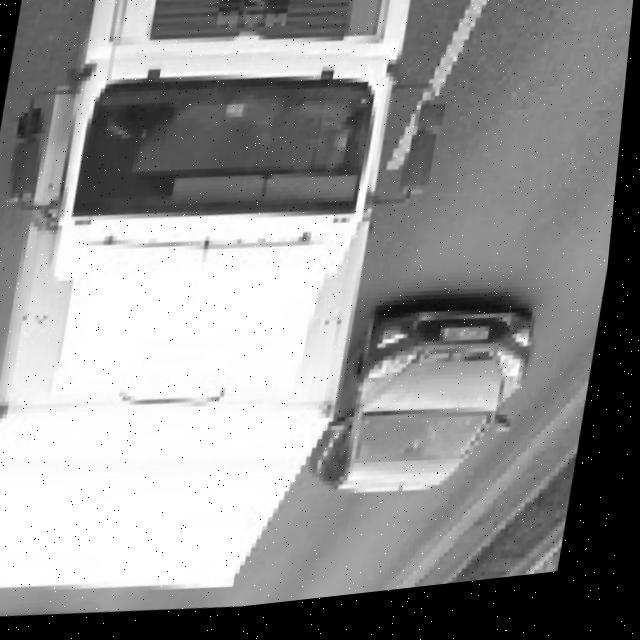truck: (7, 1, 453, 432)
